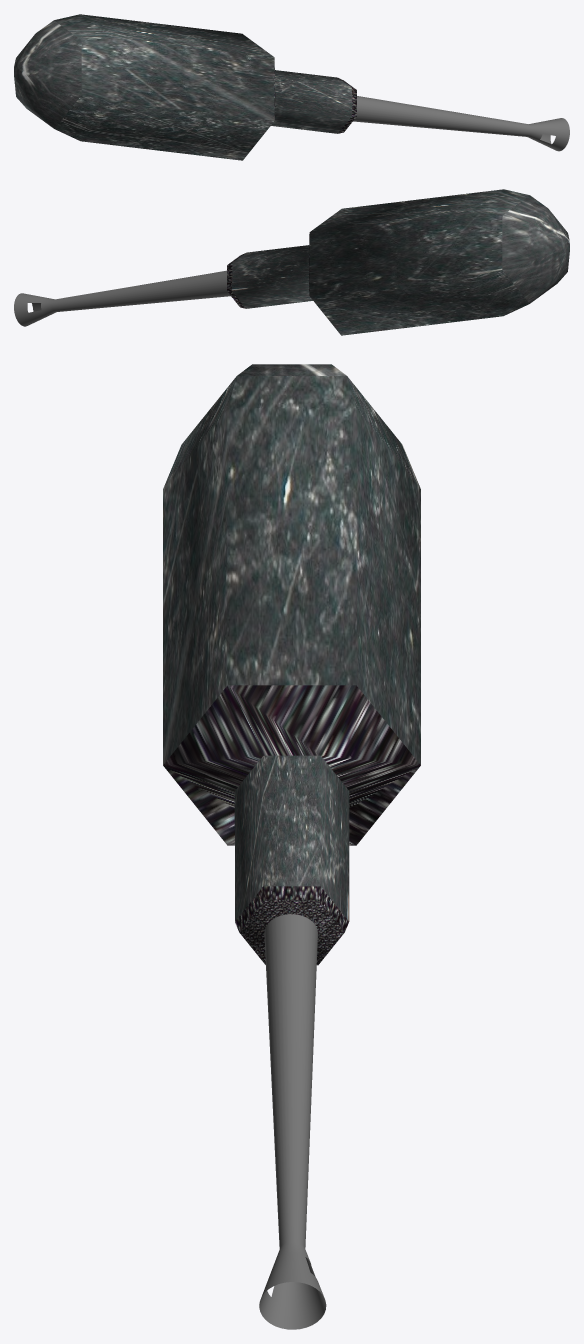
File: rarm.gltf
The picture shows the model from 3 angles, top to bottom: view 1: azimuth 30°, elevation 25°; view 2: azimuth 150°, elevation 25°; view 3: azimuth 270°, elevation 25°; orthographic projection. The views are drawn at different scales.
Visible parts, largest first — view 1: arms, 円柱; view 2: arms, 円柱; view 3: arms, 円柱.
Boxes of the visible parts, x1,y1,x2,y2 form: arms: (14,14,356,160); 円柱: (353,96,569,151); arms: (227,189,569,335); 円柱: (14,270,230,326); arms: (163,364,420,965); 円柱: (259,914,326,1329).
Size of the model in its own units: 2.95 by 1.23 by 0.6001.
Materials: 3 (2 with a texture image).
